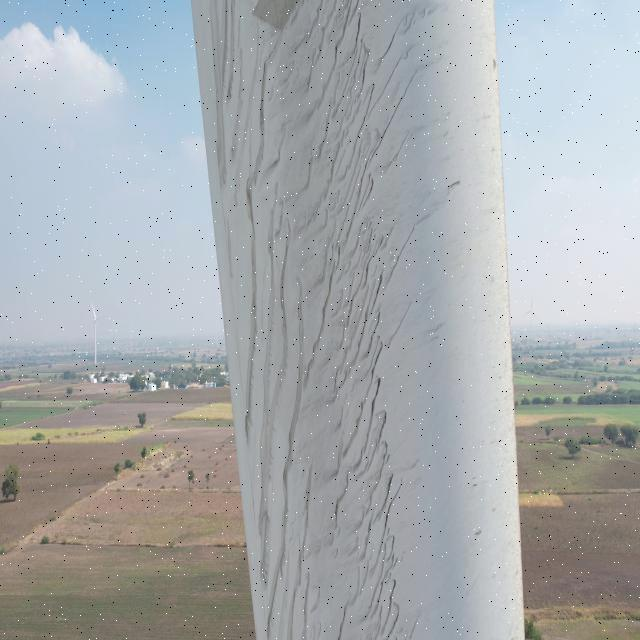Dirt: (193, 2, 472, 640)
